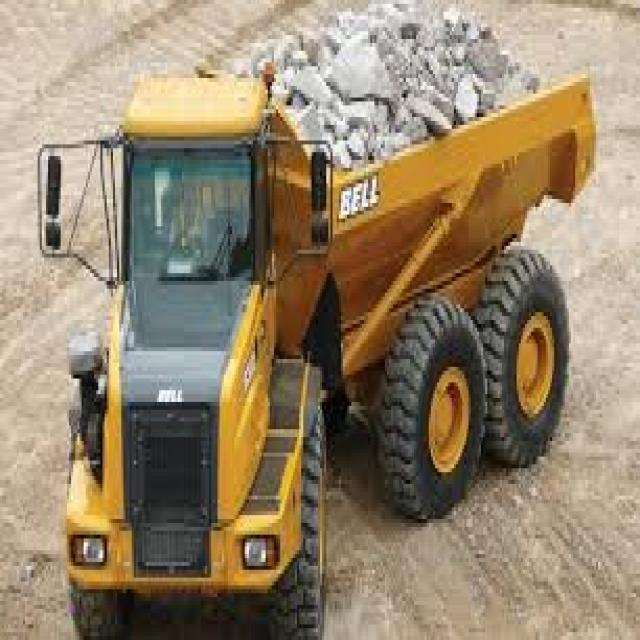dump_truck: (42, 16, 600, 636)
